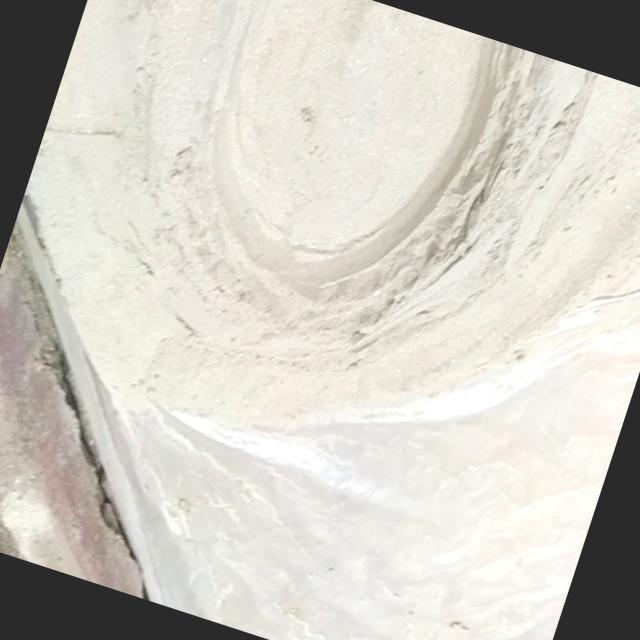C40: (214, 0, 505, 288)
